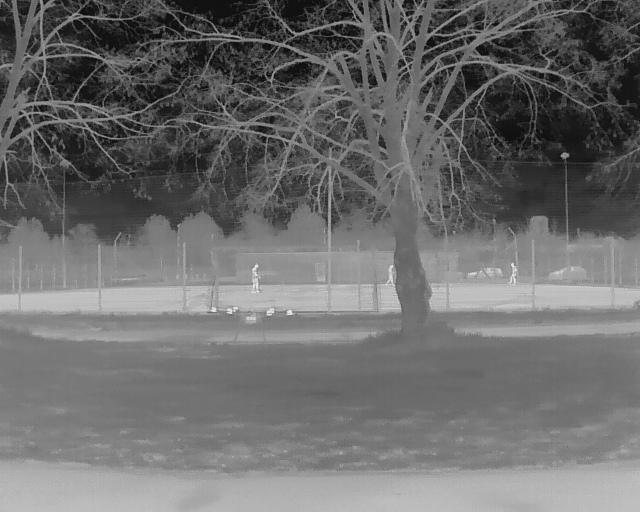drone: (206, 295, 301, 351)
